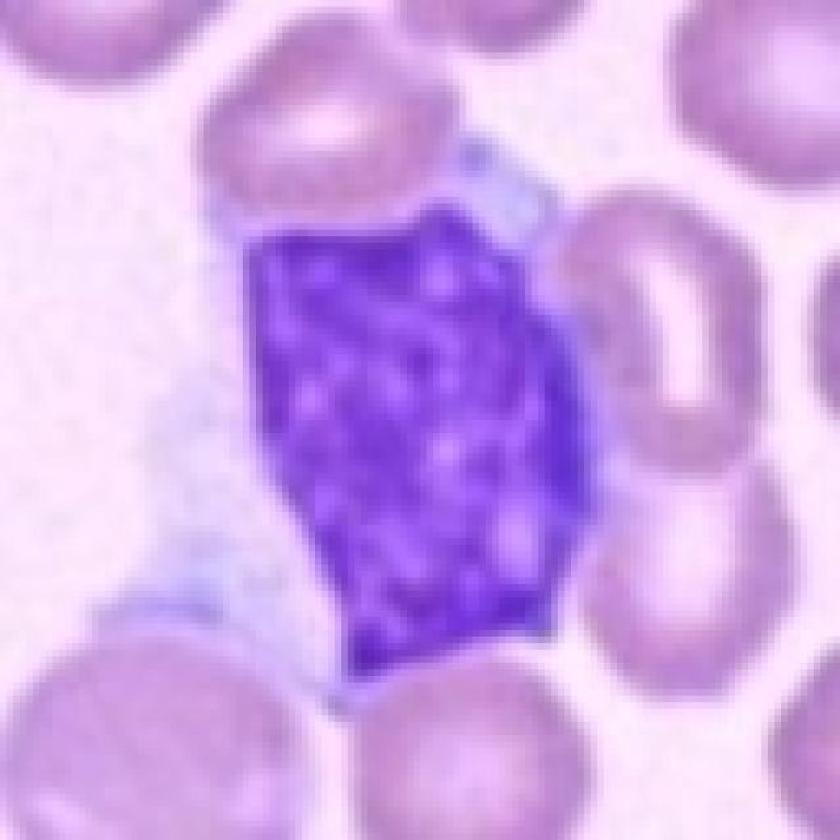lymphocyte: (100, 133, 644, 700)
